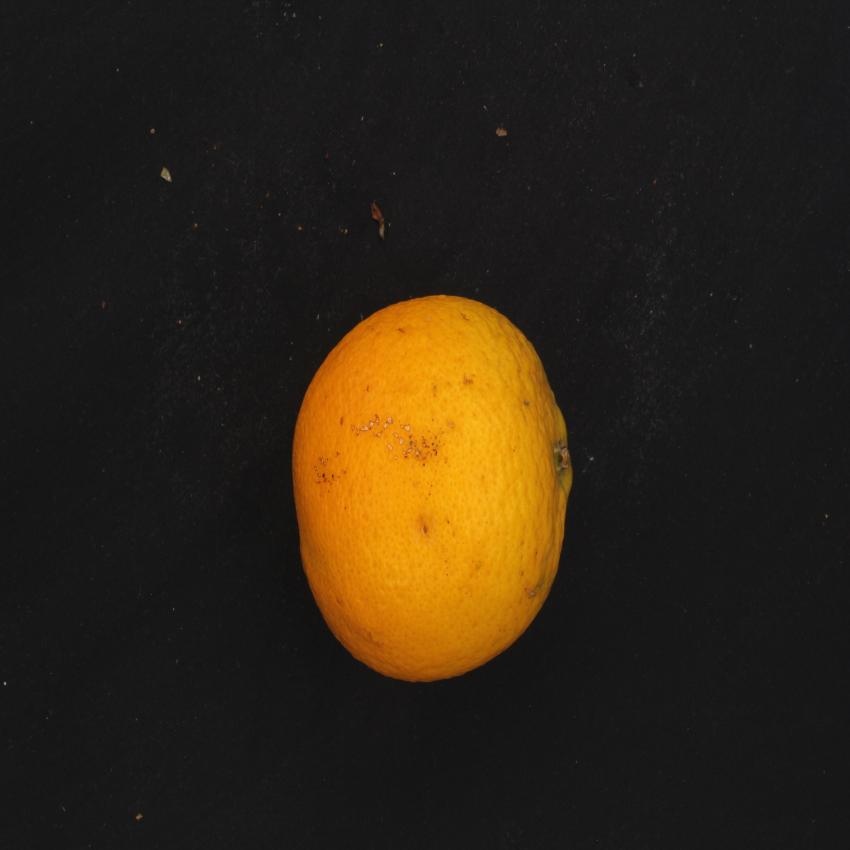Buen estado: (284, 278, 580, 693)
